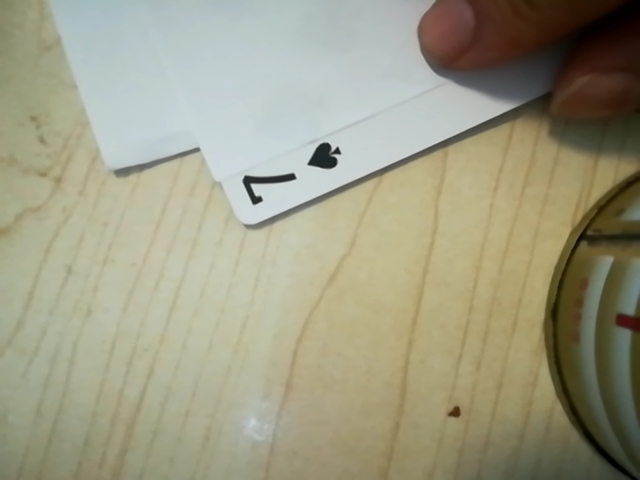ht 7: (228, 128, 365, 216)
